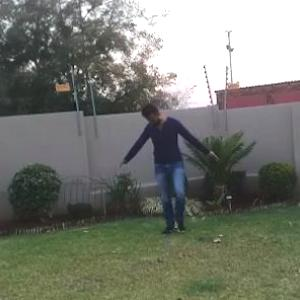land: (108, 94, 215, 248)
